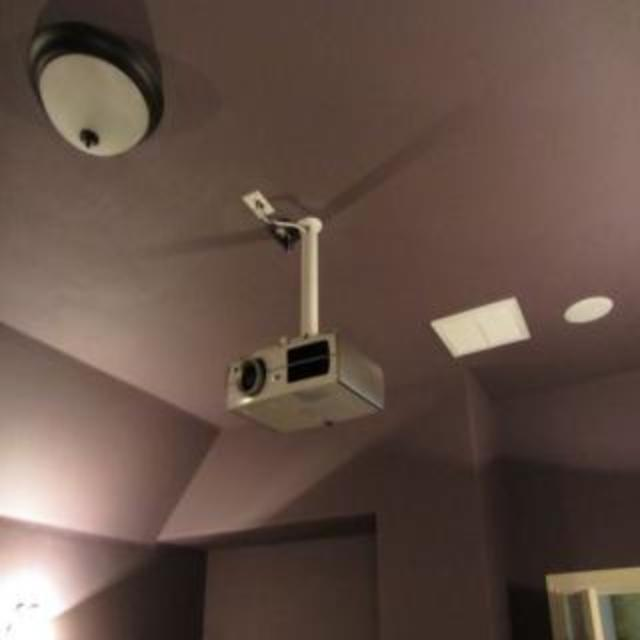Projector: (226, 214, 384, 438)
